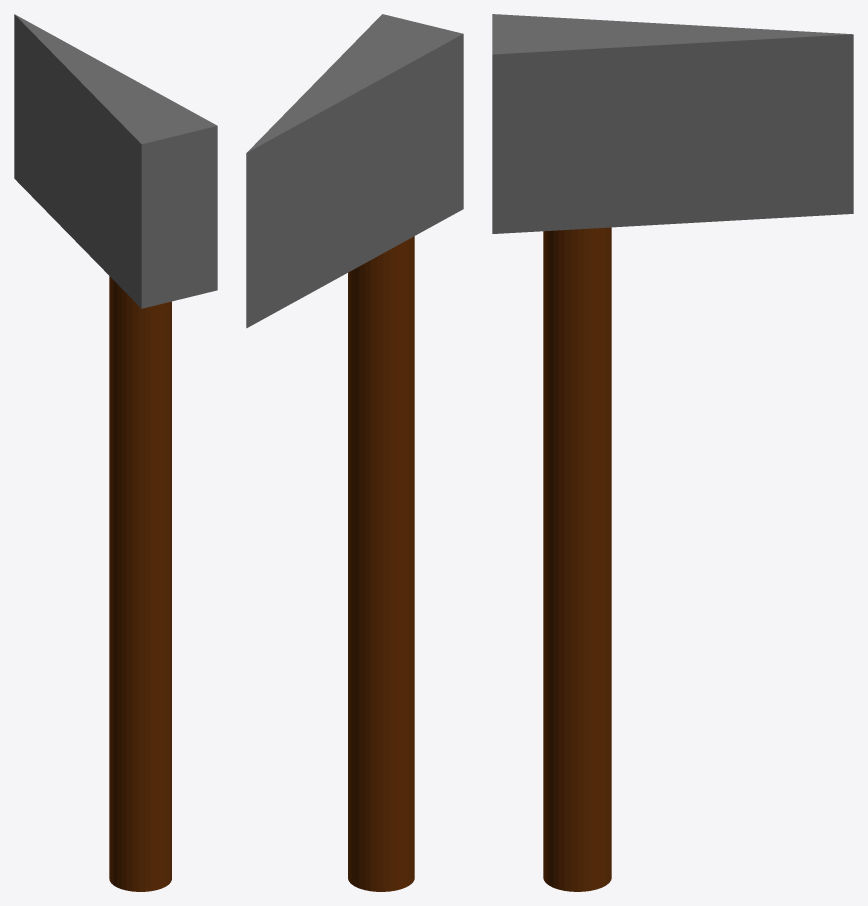
File: axe.glb
3 views of the same model, side by side, from view 1: azimuth 30°, elevation 25°; view 2: azimuth 150°, elevation 25°; view 3: azimuth 270°, elevation 25° (orthographic). The views are drawn at different scales.
Parts seen in each view (by area): view 1: Cube, Cylinder; view 2: Cube, Cylinder; view 3: Cube, Cylinder.
Boxes of the visible parts, x1=… form: Cube: x1=14, y1=14, x2=217, y2=308; Cylinder: x1=109, y1=276, x2=171, y2=891; Cube: x1=246, y1=14, x2=463, y2=328; Cylinder: x1=348, y1=236, x2=414, y2=891; Cube: x1=492, y1=14, x2=853, y2=233; Cylinder: x1=543, y1=227, x2=611, y2=891.
Bounding box in the file's own units: 0.126 × 1.22 × 0.4746.
